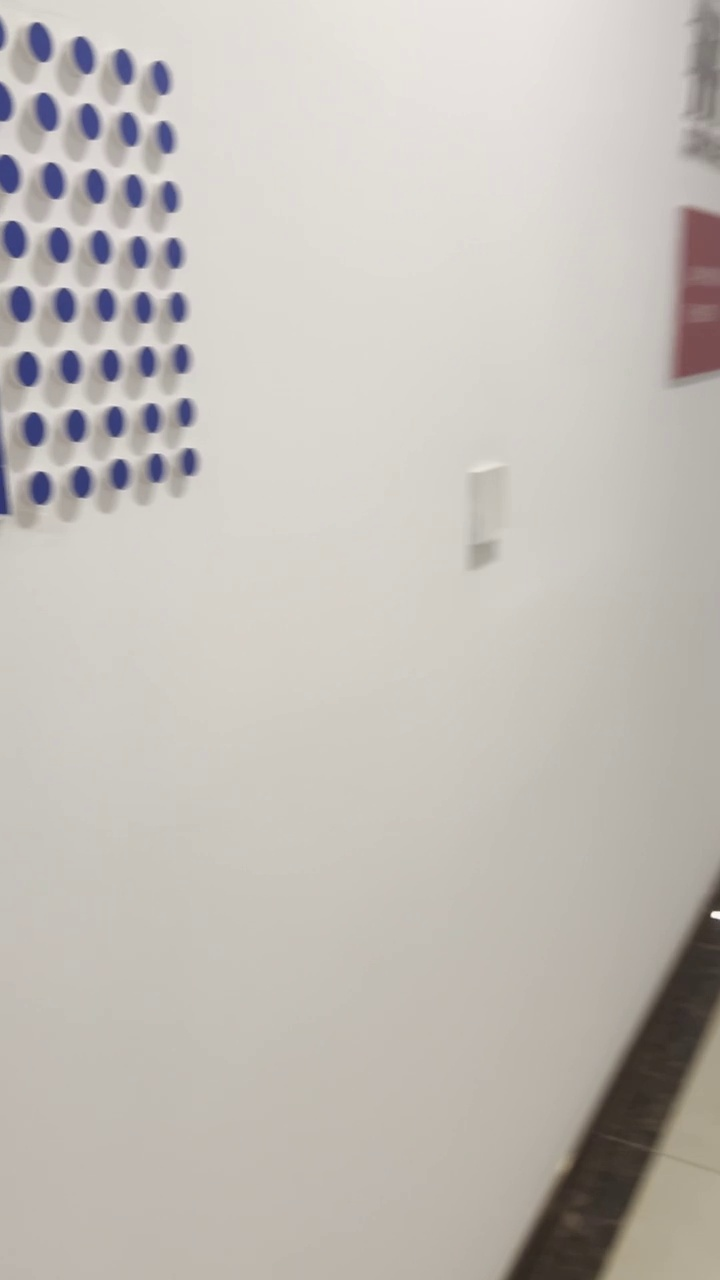button: (472, 463, 511, 548)
